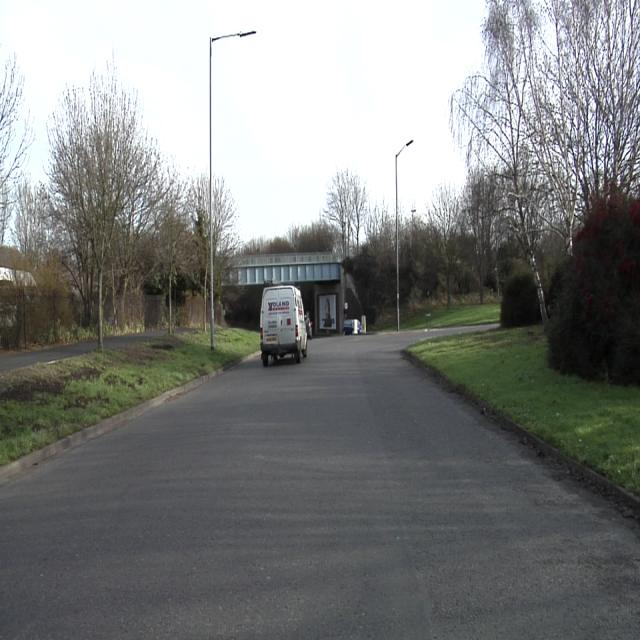Car: (343, 319, 363, 335)
Road: (0, 332, 634, 624), (0, 340, 98, 372), (104, 331, 165, 348)
Tree: (402, 0, 639, 324), (38, 52, 206, 326), (317, 168, 393, 304), (1, 54, 33, 239), (212, 174, 241, 299), (241, 220, 338, 255)
Truck_Bus: (261, 286, 308, 365)
